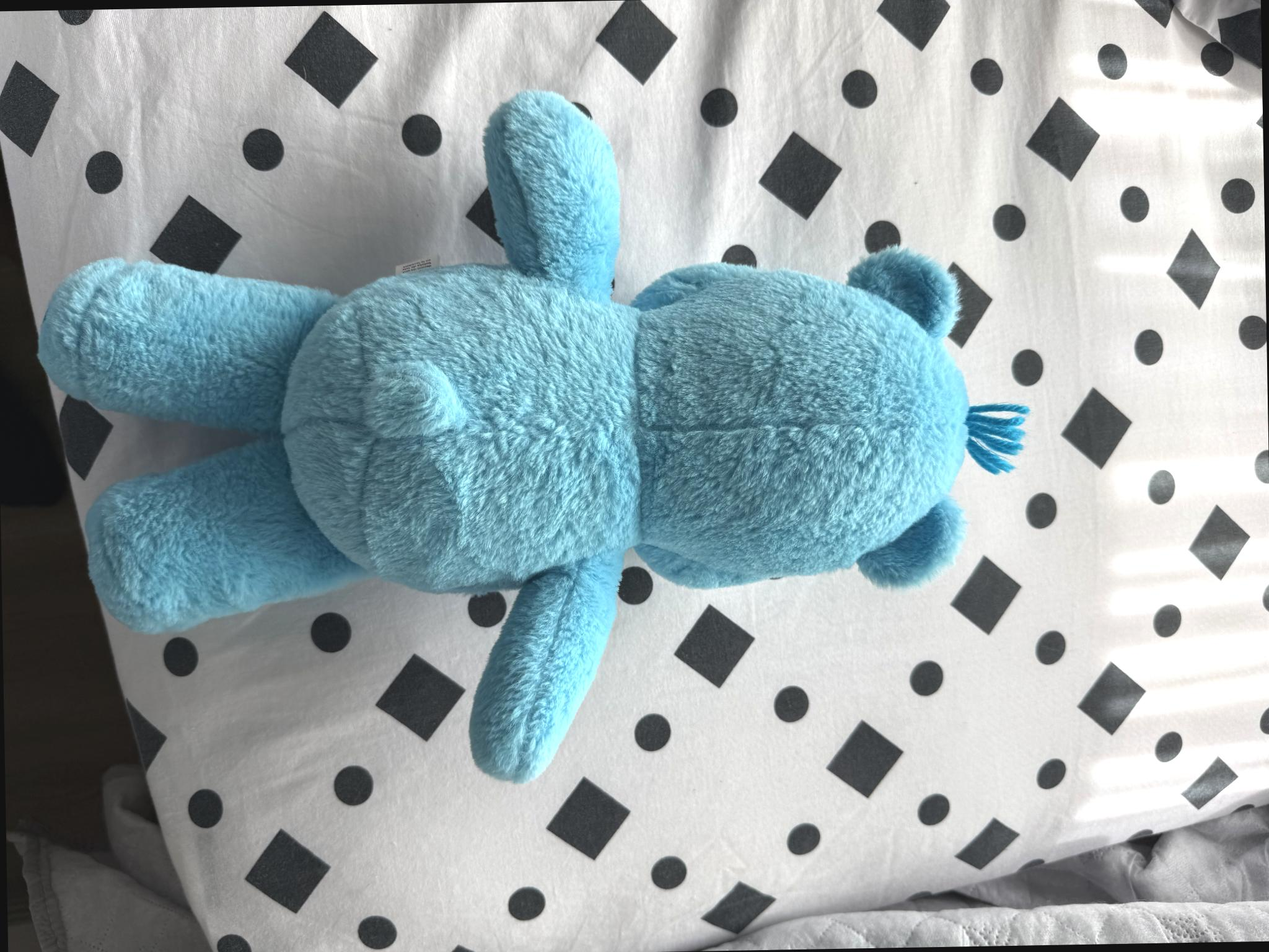peluche_Juan Jose: (36, 84, 1026, 786)
